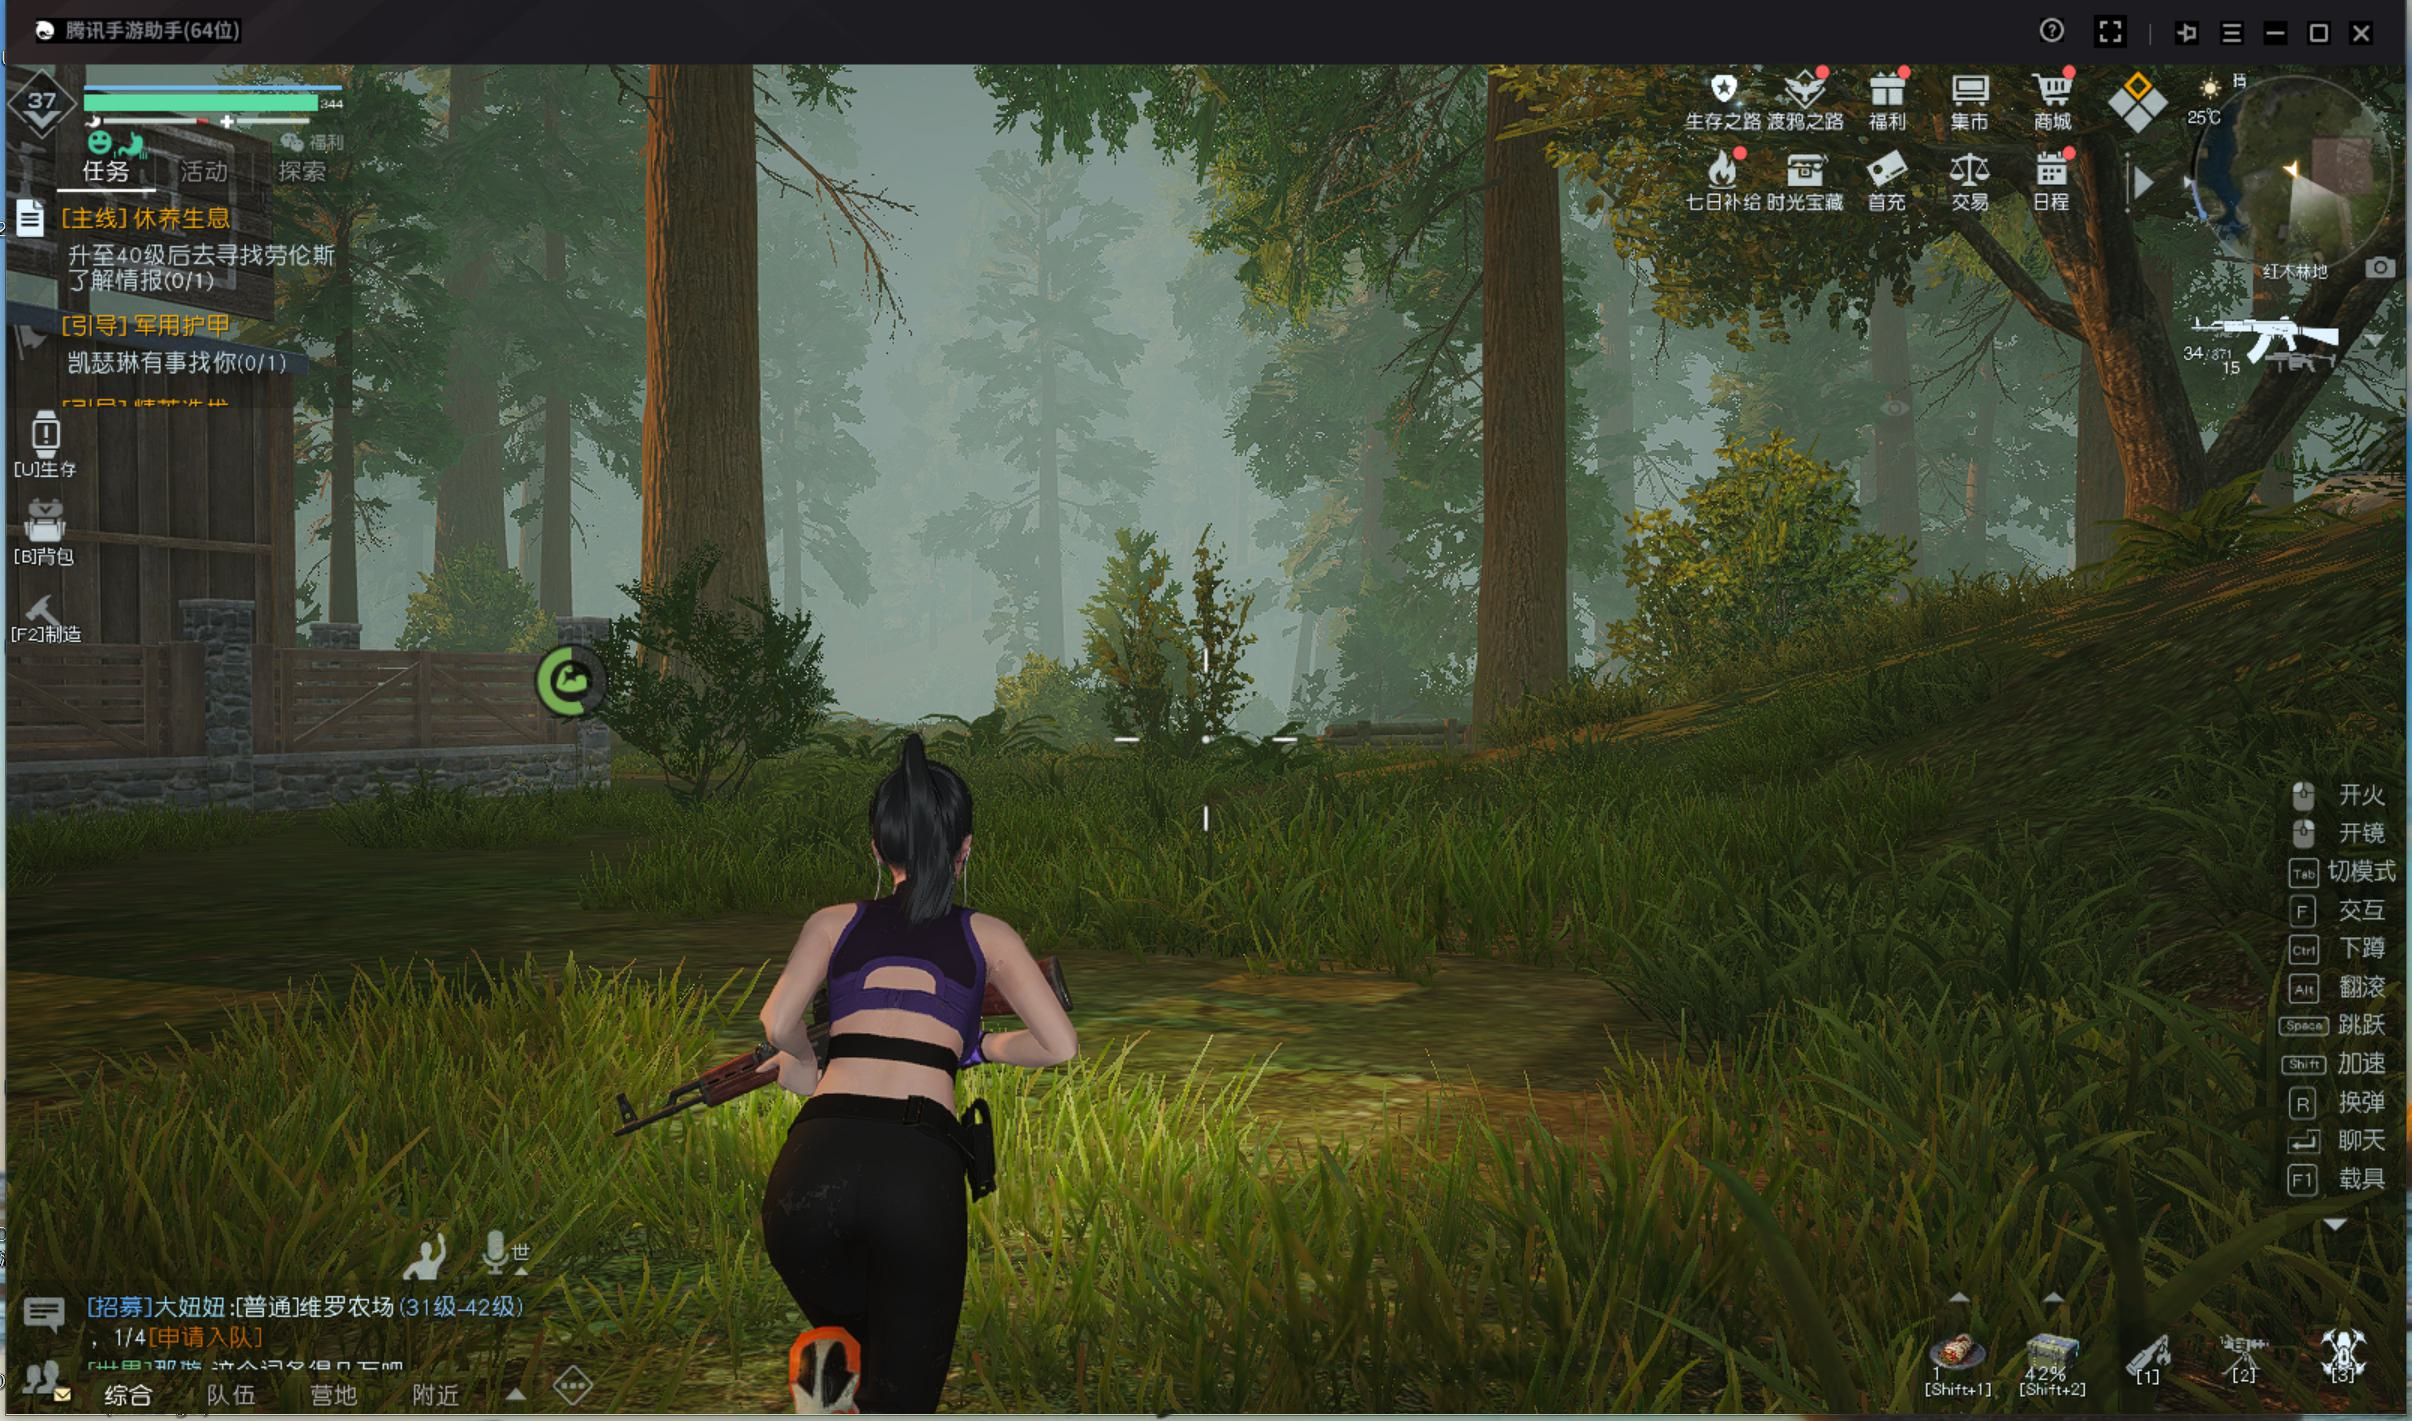tree: (629, 85, 783, 788), (1460, 118, 1583, 770), (1862, 311, 1928, 623)
